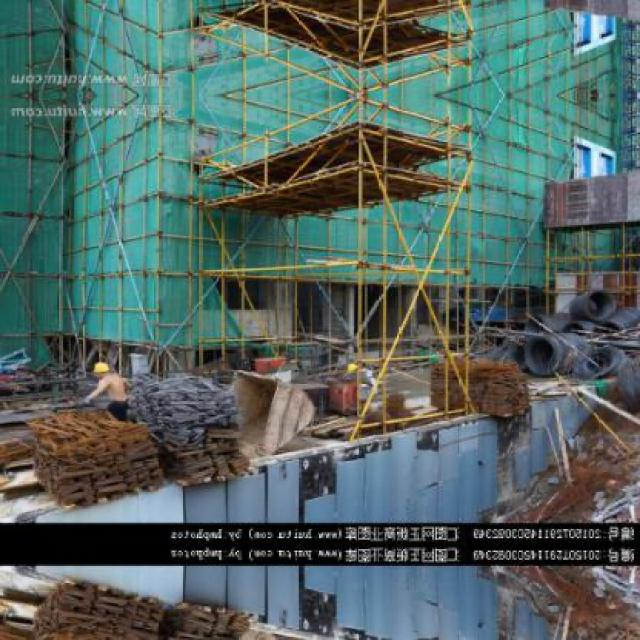helmet: (91, 358, 112, 382)
